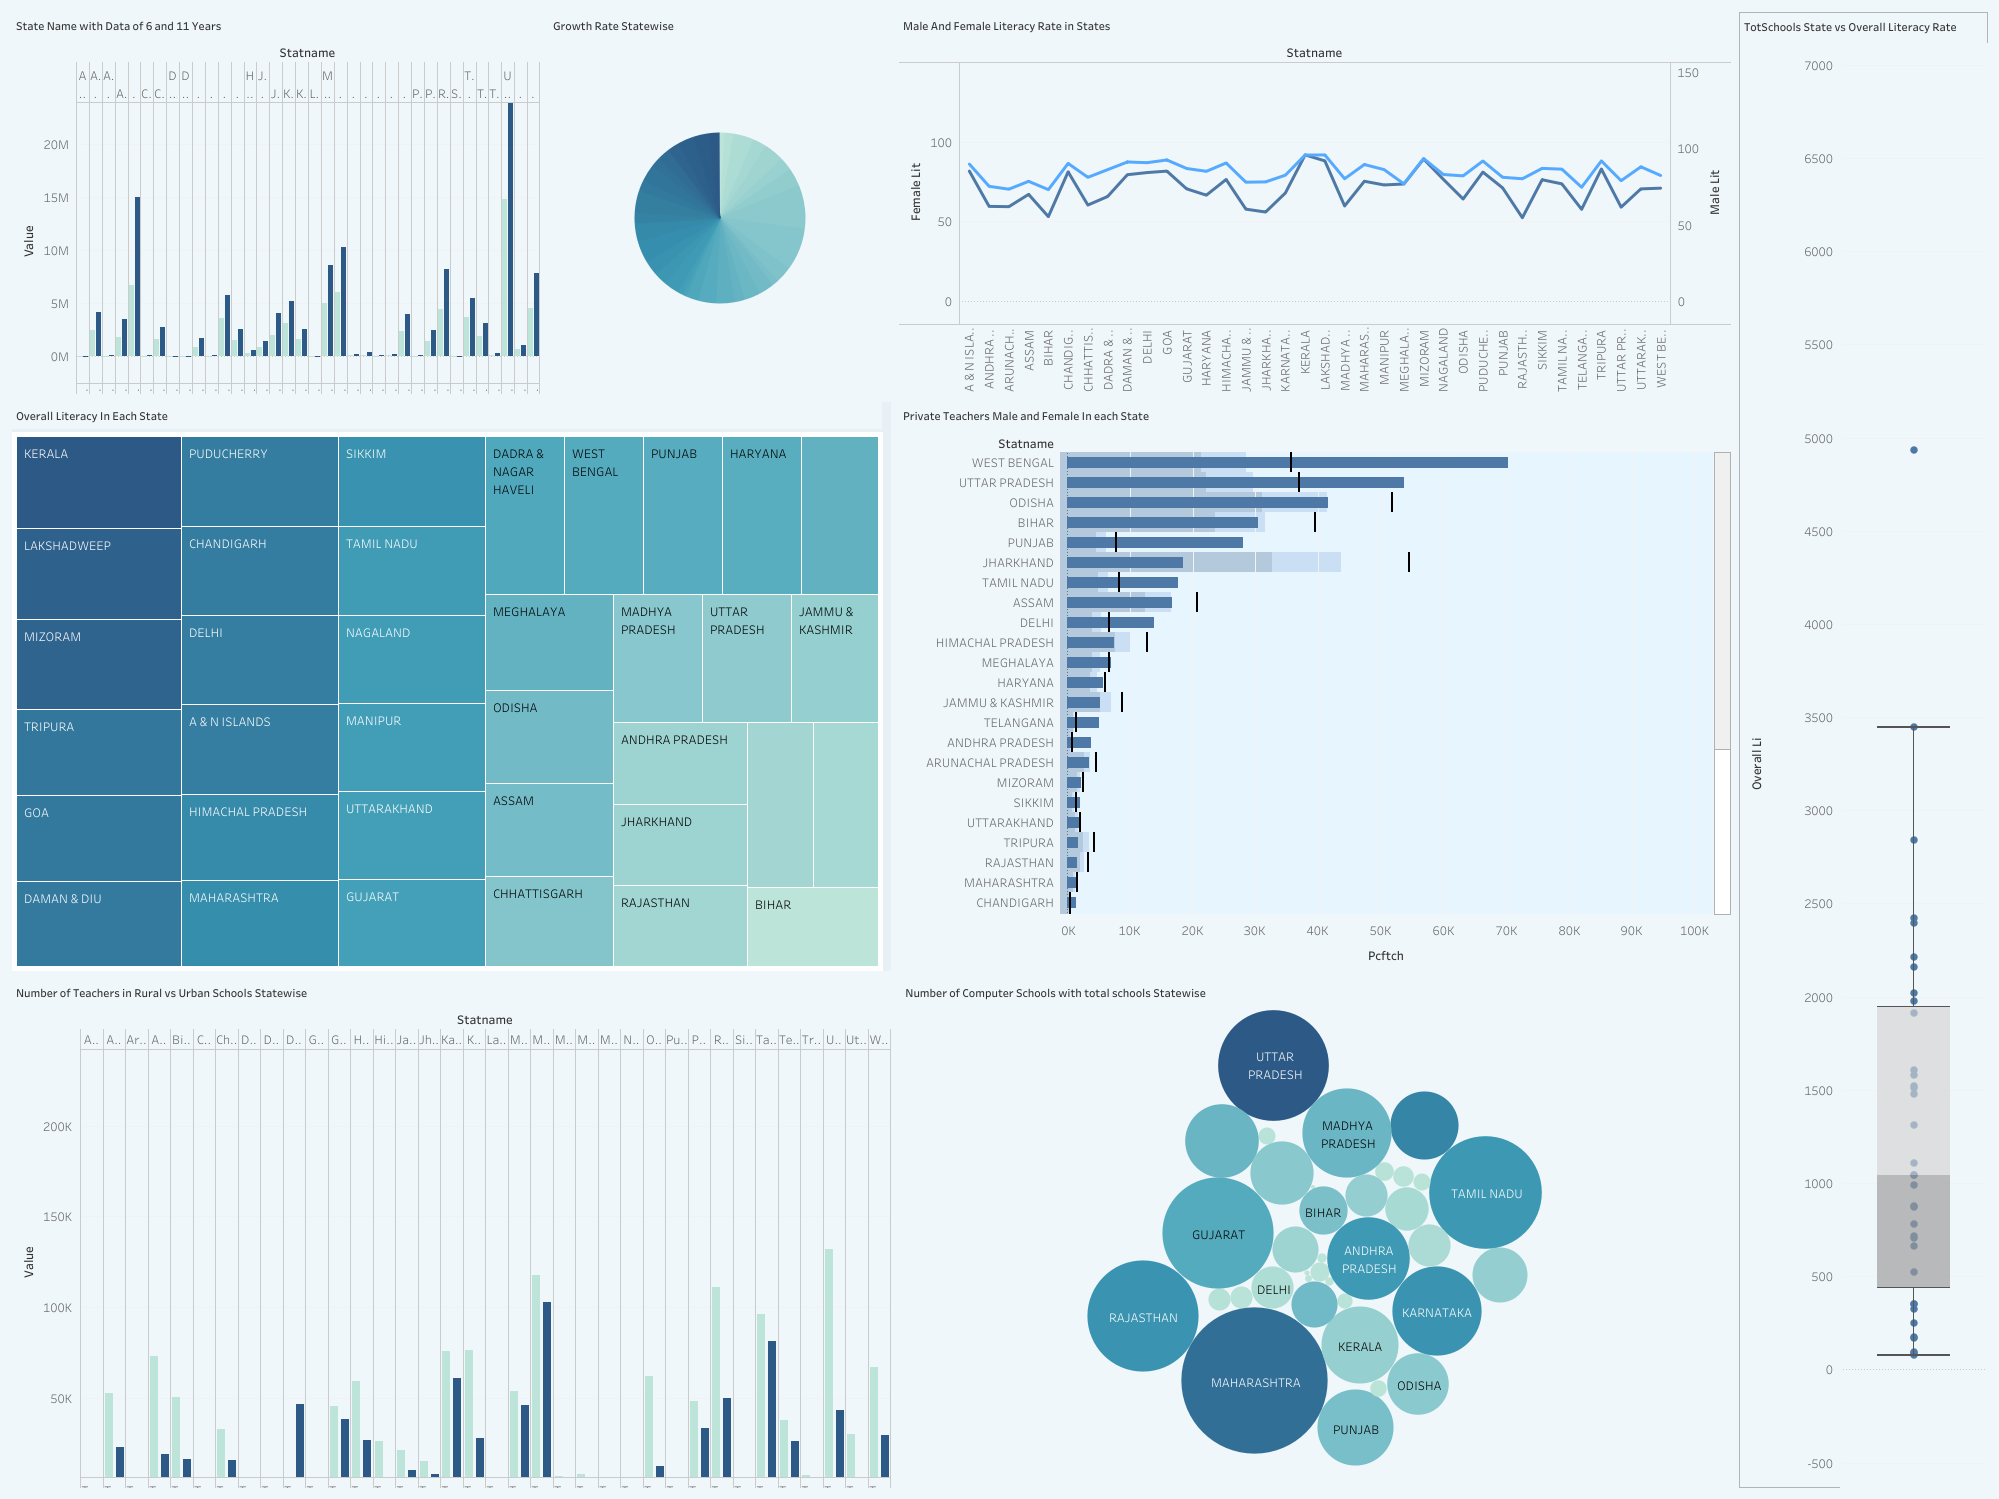

What the dashboard file says about the page in this screenshot:
{"tool":"tableau","page":{"name":"Dashboard 2","canvas":[2000,1500],"ordinal":1},"visuals":[{"type":"worksheet","title":"Sheet 1 (2)","mark":"Automatic","cols":["STATNAME"],"box":[8,8,537,389.8]},{"type":"worksheet","title":"Sheet 4 (2)","mark":"Pie","box":[545,8,350,389.8]},{"type":"worksheet","title":"Sheet 3 (3)","mark":"Line","rows":["FEMALE_LIT","MALE_LIT"],"cols":["STATNAME"],"box":[895,8,840,390]},{"type":"worksheet","title":"Sheet 6","mark":"Circle","rows":["OVERALL_LI"],"box":[1735,8,257,1484]},{"type":"worksheet","title":"Sheet 4 (3)","mark":"Automatic","box":[8,397.8,887,577.2]},{"type":"worksheet","title":"Sheet new","mark":"Automatic","rows":["STATNAME"],"cols":["PCFTCH"],"box":[895,398,840,577]},{"type":"worksheet","title":"Sheet 3 (2)","mark":"Automatic","cols":["statname"],"box":[8,975,887,517]},{"type":"worksheet","title":"Sheet 5","mark":"Circle","box":[895,975,840,495]}]}

Visuals, with their boxes in screenshot pixels (x1, y1, x2, y2), scaled from the page's 2000x1500 canvas onto the 1999x1499 screenshot:
"Sheet 1 (2)" worksheet: 8:8:545:398
"Sheet 4 (2)" worksheet (Pie marks): 545:8:895:398
"Sheet 3 (3)" worksheet (Line marks): 895:8:1734:398
"Sheet 6" worksheet (Circle marks): 1734:8:1991:1491
"Sheet 4 (3)" worksheet: 8:398:895:974
"Sheet new" worksheet: 895:398:1734:974
"Sheet 3 (2)" worksheet: 8:974:895:1491
"Sheet 5" worksheet (Circle marks): 895:974:1734:1469
